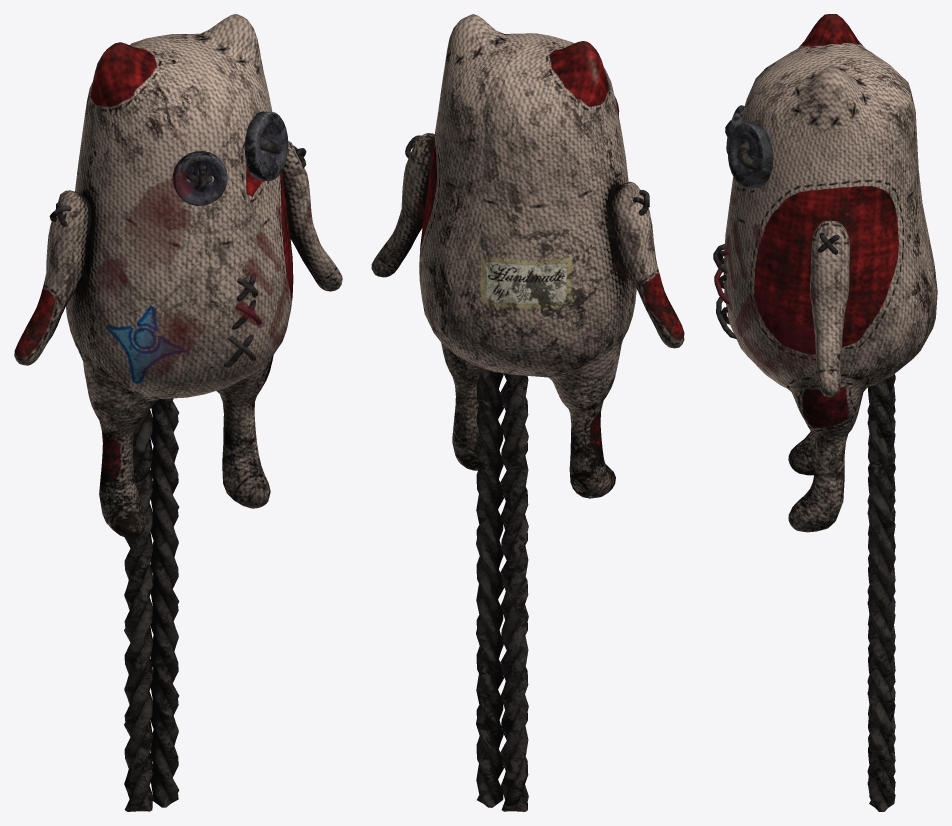
Rendered from weathered_plushie.glb.
The picture shows the model from 3 angles, left to right: view 1: azimuth 30°, elevation 25°; view 2: azimuth 150°, elevation 25°; view 3: azimuth 270°, elevation 25°; orthographic projection. The views are drawn at different scales.
Visible parts, largest first — view 1: Body_low, Tail_low, Button2H_low, Strings_low, Button4H_low; view 2: Body_low, Tail_low; view 3: Body_low, Tail_low, Button2H_low, Strings_low.
Boxes of the visible parts, x1=… form: Body_low: x1=14, y1=14, x2=342, y2=538; Tail_low: x1=124, y1=398, x2=179, y2=811; Button2H_low: x1=244, y1=111, x2=288, y2=180; Strings_low: x1=49, y1=138, x2=306, y2=367; Button4H_low: x1=172, y1=151, x2=227, y2=205; Body_low: x1=371, y1=14, x2=684, y2=498; Tail_low: x1=476, y1=366, x2=528, y2=811; Body_low: x1=723, y1=14, x2=937, y2=532; Tail_low: x1=867, y1=374, x2=895, y2=811; Button2H_low: x1=727, y1=122, x2=773, y2=188; Strings_low: x1=713, y1=120, x2=839, y2=339.
Size of the model in its own units: 0.2797 by 0.6553 by 0.1755.
1 material, 1 textured.
